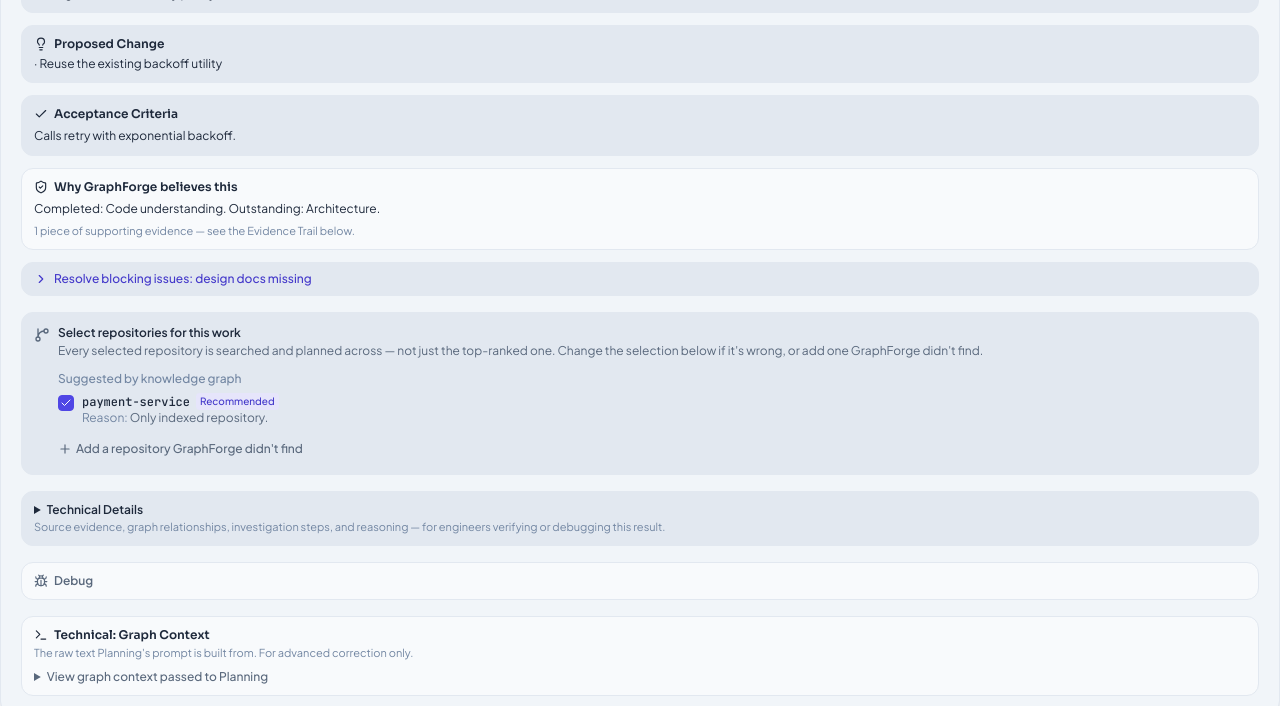
it: ContextExplorerPanel › shows a plain-language 'what we know' checklist on the default view, full readiness detail and constraints only in Technical Details
(page scrolled)
Expected: the list item "· Reuse the existing backoff utility" is shown, [34,56,222,70]
Expected: the text "Completed: Code understanding. Outstanding: Architecture." is shown, [34,201,380,216]
Click the heading "Technical Details". click: x=350, y=518
box: [34,502,666,533]
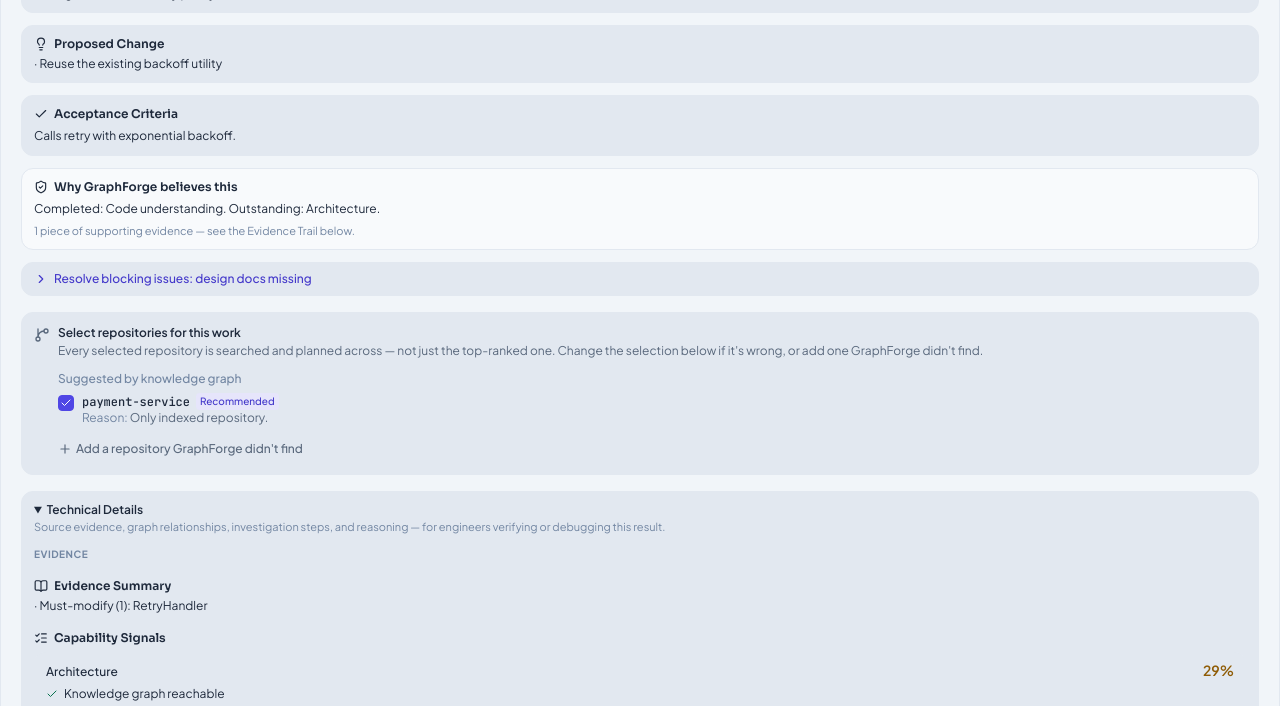
Expected: the list item "· Must-modify (1): RetryHandler" is shown, [34,598,208,613]
